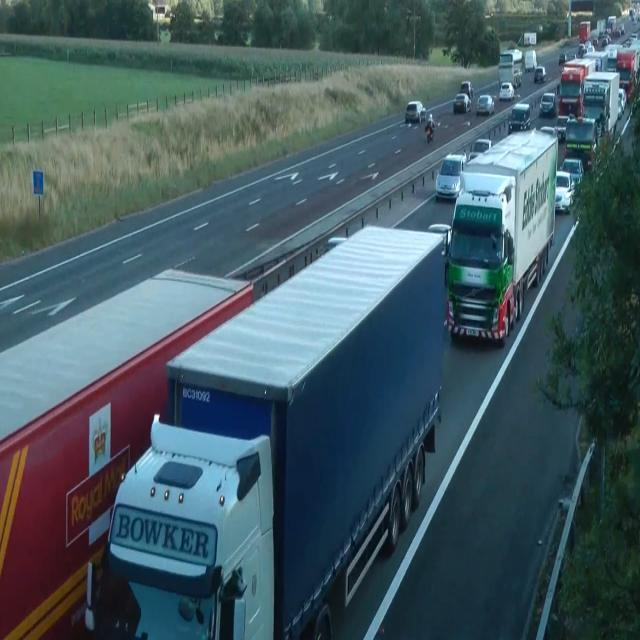bus: (435, 153, 467, 200), (555, 170, 575, 214), (560, 158, 584, 188), (508, 102, 530, 134), (554, 114, 575, 142), (468, 138, 492, 162), (404, 100, 426, 124), (476, 94, 494, 116), (539, 92, 555, 116), (453, 92, 471, 113), (539, 125, 557, 142), (499, 82, 514, 100), (460, 81, 474, 99), (618, 87, 626, 118), (534, 65, 546, 83), (584, 40, 594, 53), (558, 52, 566, 65), (618, 23, 624, 36), (484, 12, 492, 18)
car: (105, 223, 448, 638), (0, 265, 254, 638)
lorry: (425, 122, 434, 143)
minibus: (436, 126, 558, 346), (579, 70, 619, 142), (498, 49, 522, 89), (524, 49, 536, 72), (518, 31, 536, 46), (578, 20, 590, 42)
